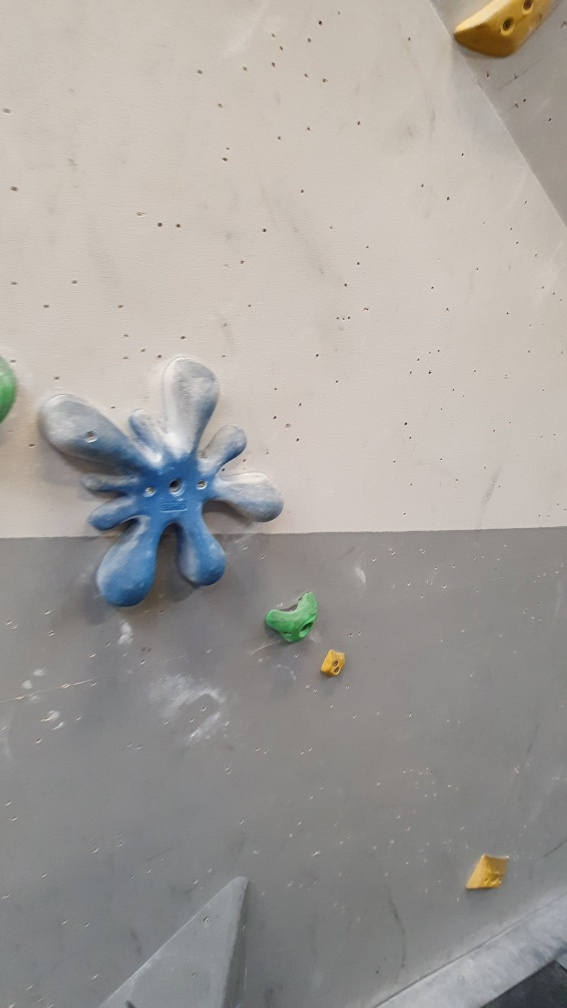Jug: (260, 584, 319, 645)
Octopus Pinch: (36, 354, 288, 609)
